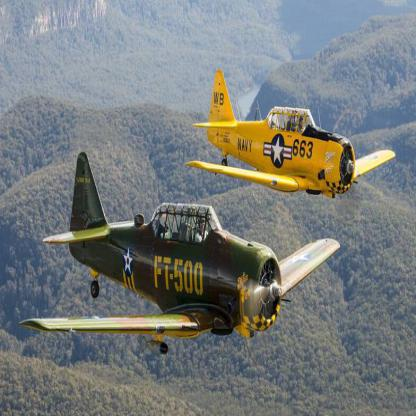CIV_Plane: (19, 158, 342, 356), (182, 67, 398, 200)
